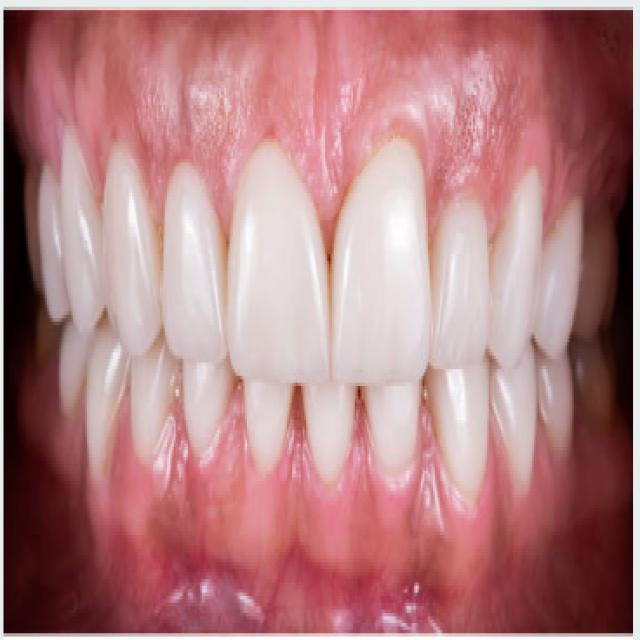Gingivitis: (150, 508, 487, 633)
